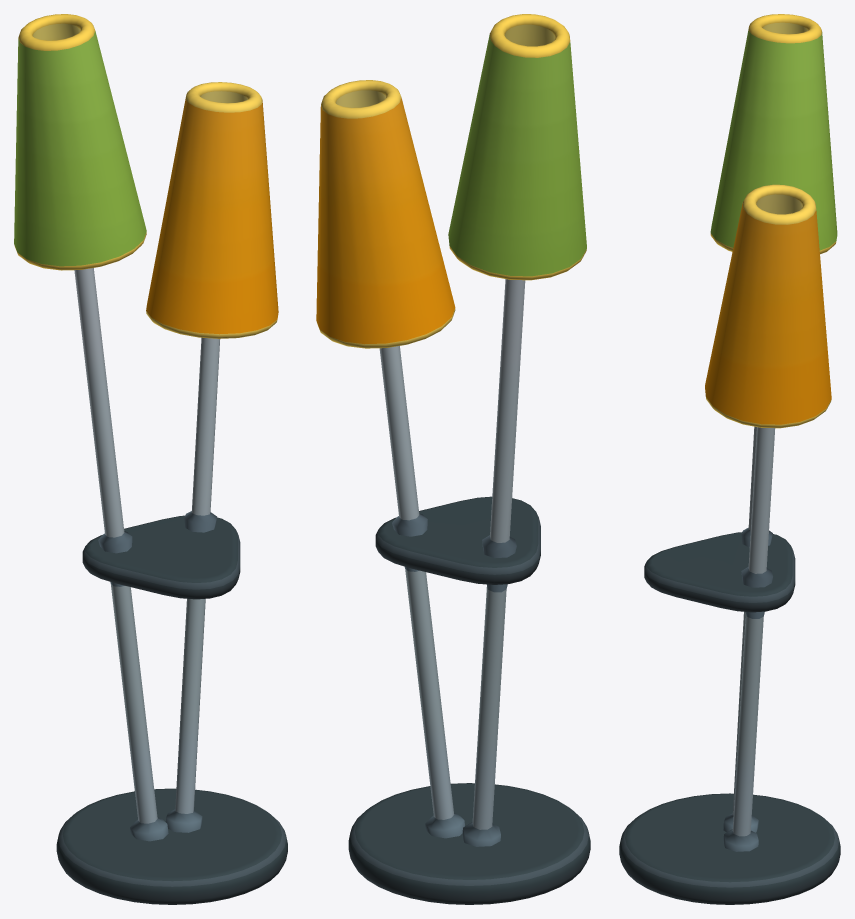
File: Light_01.glb
3 renders of one model, left to right at view 1: azimuth 30°, elevation 25°; view 2: azimuth 150°, elevation 25°; view 3: azimuth 270°, elevation 25°, orthographic. The views are drawn at different scales.
Parts seen in each view (by area): view 1: Light_01; view 2: Light_01; view 3: Light_01.
Part boxes in pixels (bbox=[...]): Light_01: bbox=[14, 14, 287, 904]; Light_01: bbox=[316, 14, 590, 904]; Light_01: bbox=[619, 14, 840, 904].
Size of the model in its own units: 0.4887 by 1.6 by 0.4018.
Materials: 1 (1 with a texture image).
